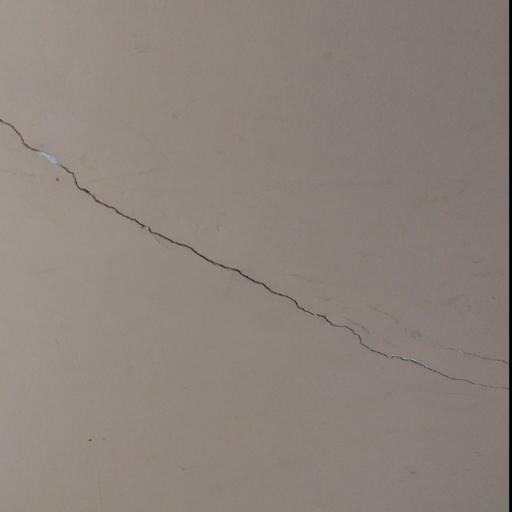major_crack: (0, 99, 510, 399)
